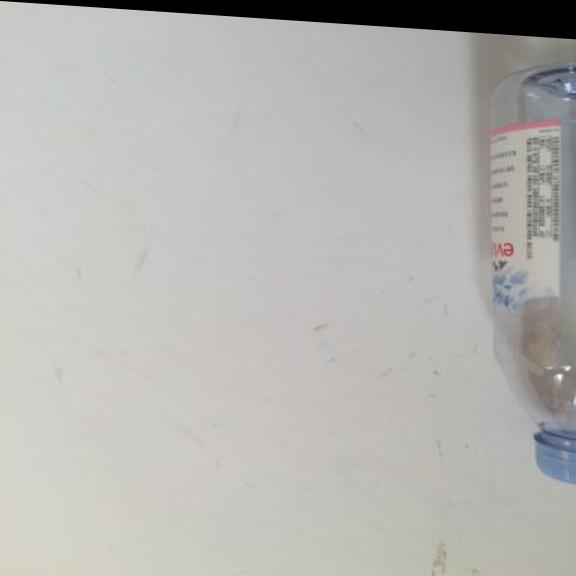Plastik: (476, 48, 576, 486)
